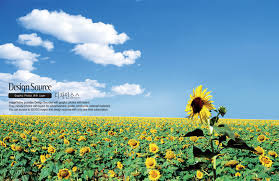flower: (7, 114, 279, 180), (184, 81, 226, 172)
sky: (5, 3, 279, 85)
